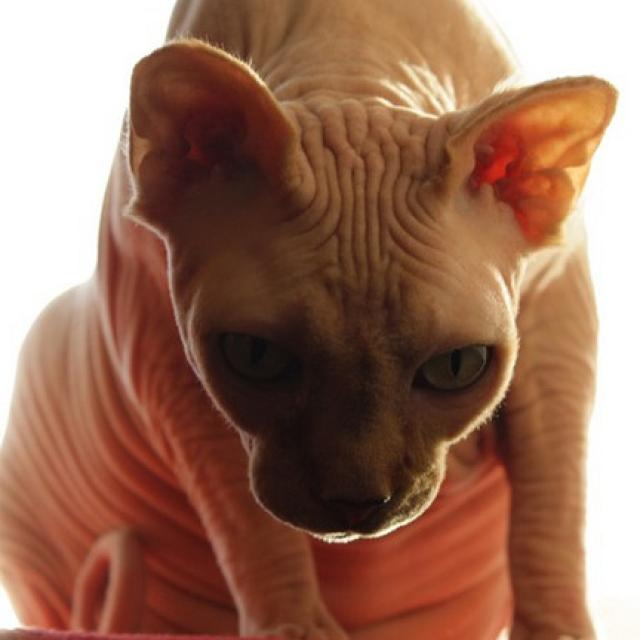Sphynx: (0, 0, 636, 640)
